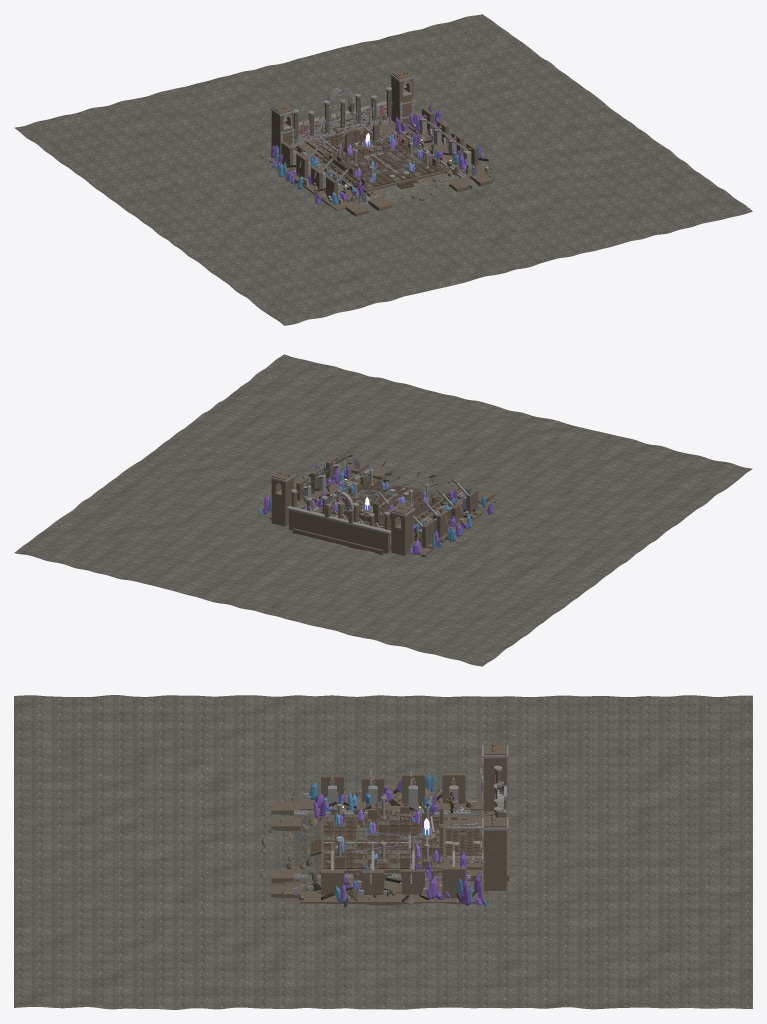
Rendered from last_benediction.glb.
The picture shows the model from 3 angles, top to bottom: view 1: azimuth 30°, elevation 25°; view 2: azimuth 150°, elevation 25°; view 3: azimuth 270°, elevation 25°; orthographic projection. The views are drawn at different scales.
Visible parts, largest first — view 1: NONPLAY | Graded cathedral grounds, NONPLAY | ruined bell tower mass.001, NONPLAY | ruined bell tower mass; view 2: NONPLAY | Graded cathedral grounds, NONPLAY | ruin rear nave wall, NONPLAY | ruined bell tower mass.001, NONPLAY | ruined bell tower mass, NONPLAY | apse plinth; view 3: NONPLAY | Graded cathedral grounds, NONPLAY | ruined bell tower mass.001, NONPLAY | fallen transept foundation.001, NONPLAY | ruined bell tower mass, floating cutaway undercroft, NONPLAY | apse plinth, NONPLAY | transept side wall.007, NONPLAY | transept side wall.005, NONPLAY | transept side wall.006, NONPLAY | transept side wall.003.
Boxes of the visible parts, box(x1,y1,x2,y2) form: NONPLAY | Graded cathedral grounds: box(14, 14, 752, 325); NONPLAY | ruined bell tower mass.001: box(391, 69, 413, 125); NONPLAY | ruined bell tower mass: box(271, 103, 293, 154); NONPLAY | Graded cathedral grounds: box(14, 354, 752, 666); NONPLAY | ruin rear nave wall: box(289, 510, 389, 553); NONPLAY | ruined bell tower mass.001: box(271, 470, 293, 526); NONPLAY | ruined bell tower mass: box(391, 504, 413, 555); NONPLAY | apse plinth: box(292, 510, 391, 555); NONPLAY | Graded cathedral grounds: box(14, 695, 752, 1009); NONPLAY | ruined bell tower mass.001: box(483, 817, 506, 890); NONPLAY | fallen transept foundation.001: box(300, 891, 484, 905); NONPLAY | ruined bell tower mass: box(483, 745, 506, 811); floating cutaway undercroft: box(321, 818, 445, 873); NONPLAY | apse plinth: box(439, 816, 509, 881); NONPLAY | transept side wall.007: box(442, 867, 465, 898); NONPLAY | transept side wall.005: box(361, 870, 384, 894); NONPLAY | transept side wall.006: box(402, 869, 424, 894); NONPLAY | transept side wall.003: box(442, 773, 465, 803).
Bounding box in the file's own units: 84 × 10.04 × 84.
Materials: 32 (18 with a texture image).
